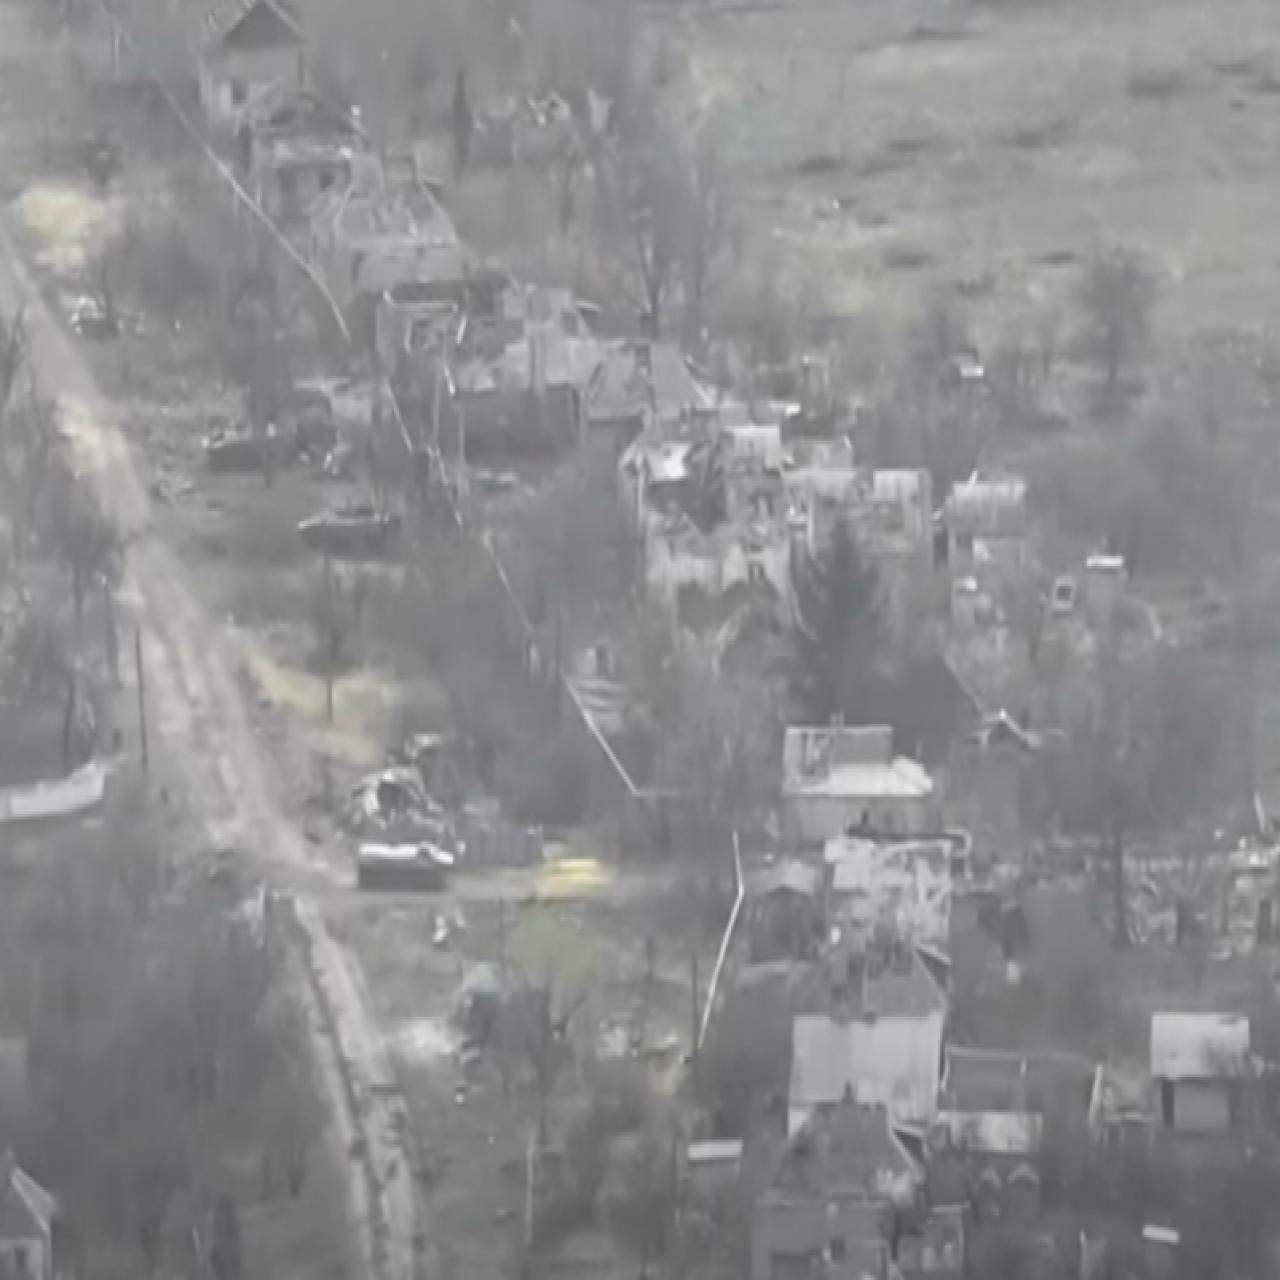MIL_Veh: (348, 833, 461, 897), (189, 411, 294, 477), (298, 496, 390, 561)
